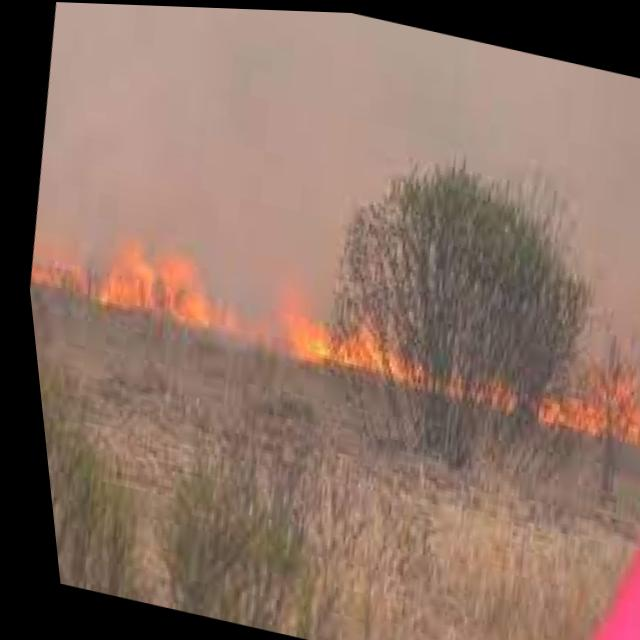Fire: (16, 190, 640, 457)
